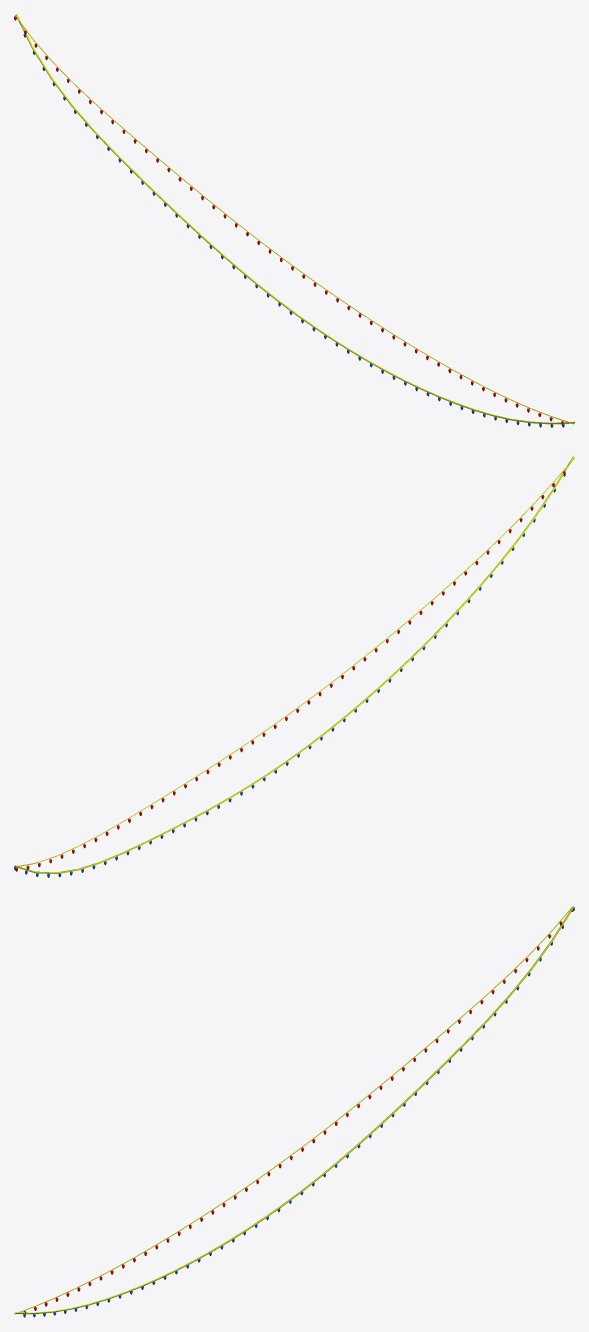
Rendered from Fairy Lights.fbx.
3 views of the same model, one above another, from view 1: azimuth 30°, elevation 25°; view 2: azimuth 150°, elevation 25°; view 3: azimuth 330°, elevation 25° (orthographic).
Visible parts, largest first — view 1: Cable_00, Cable_01, Red_LEDs, Blue_LEDs; view 2: Cable_00, Cable_01, Red_LEDs, Blue_LEDs; view 3: Cable_00, Cable_01, Red_LEDs, Blue_LEDs.
Boxes of the visible parts, x1,y1,x2,y2 form: Cable_00: [16, 14, 574, 424]; Cable_01: [15, 15, 573, 424]; Red_LEDs: [14, 16, 563, 424]; Blue_LEDs: [16, 18, 564, 427]; Cable_00: [14, 456, 574, 874]; Cable_01: [16, 458, 574, 867]; Red_LEDs: [15, 471, 565, 871]; Blue_LEDs: [14, 473, 565, 877]; Cable_00: [14, 906, 573, 1314]; Cable_01: [14, 906, 572, 1314]; Red_LEDs: [23, 910, 572, 1313]; Blue_LEDs: [23, 907, 574, 1317].
Bounding box in the file's own units: 8.94 × 115 × 1208.
